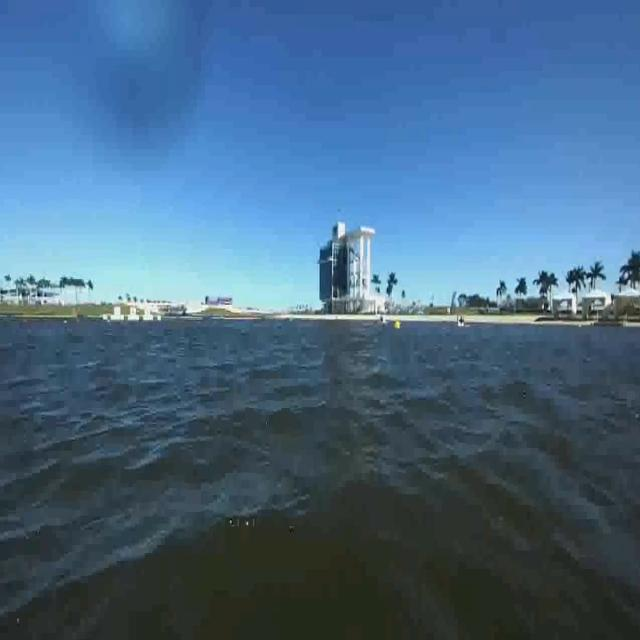yellow-buoy: (394, 318, 401, 331)
